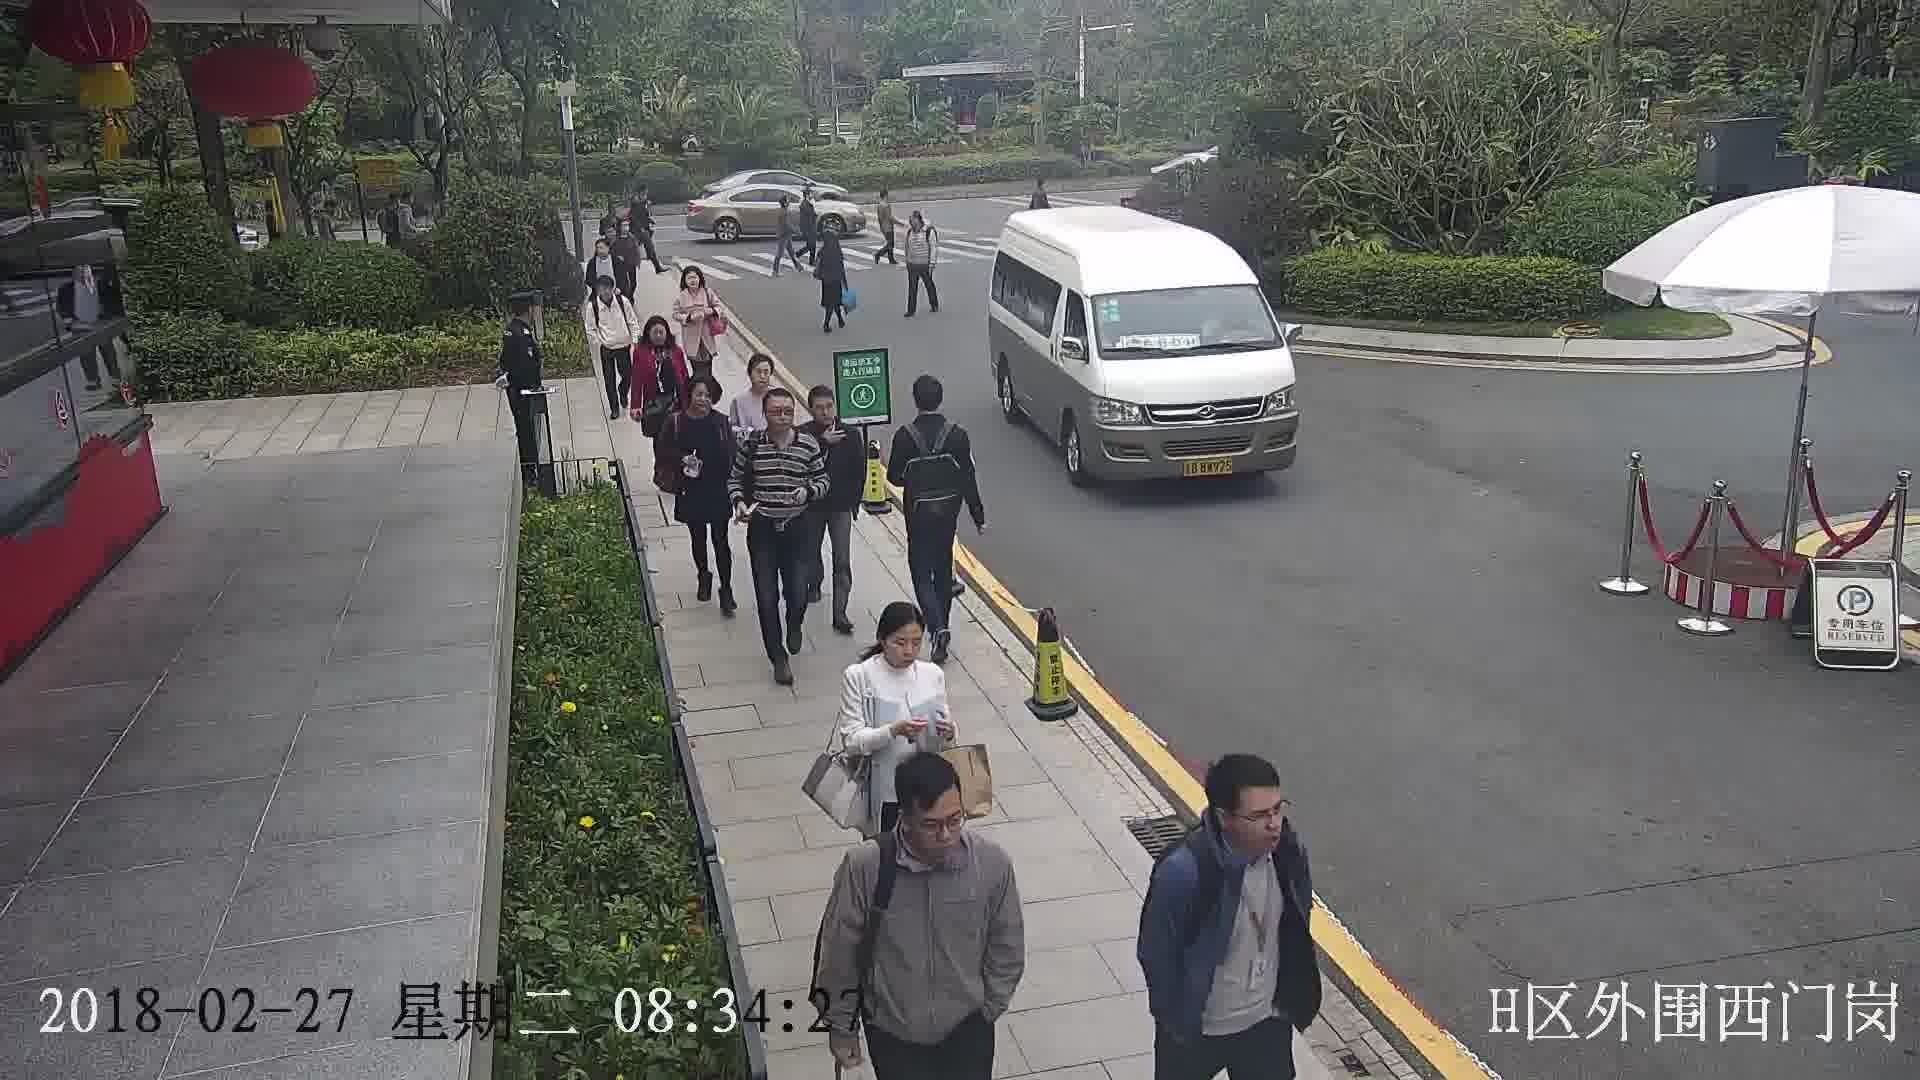face: (1220, 782, 1289, 852), (901, 789, 969, 857), (882, 609, 925, 675)
person: (836, 752, 1015, 893), (1151, 749, 1306, 902), (841, 600, 946, 698), (889, 374, 969, 448), (742, 385, 815, 461), (799, 381, 860, 454), (668, 374, 727, 434), (730, 352, 783, 413), (631, 314, 685, 362), (501, 292, 539, 347), (670, 265, 716, 303), (588, 270, 632, 308), (587, 235, 619, 267), (813, 222, 844, 252), (902, 209, 933, 238), (872, 182, 898, 211), (608, 221, 634, 248), (1029, 178, 1051, 204), (776, 192, 795, 219), (800, 183, 817, 211), (632, 186, 651, 207)
